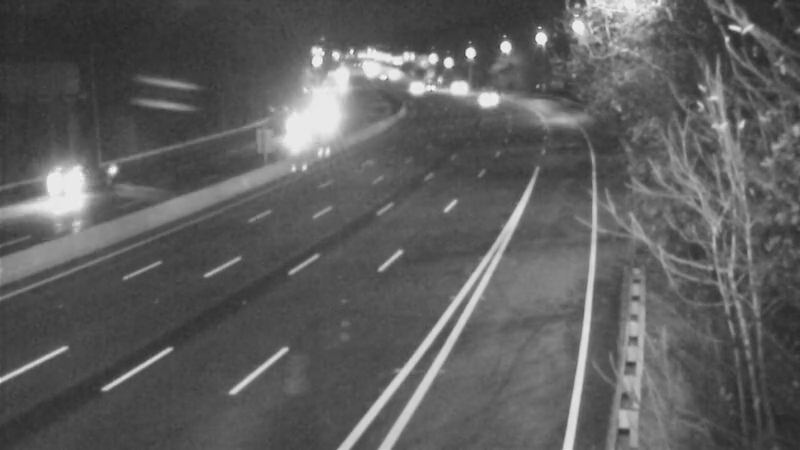vehicle: (35, 142, 115, 222), (388, 63, 438, 113), (405, 62, 455, 112), (431, 65, 481, 115), (462, 73, 512, 123), (273, 101, 323, 151)
